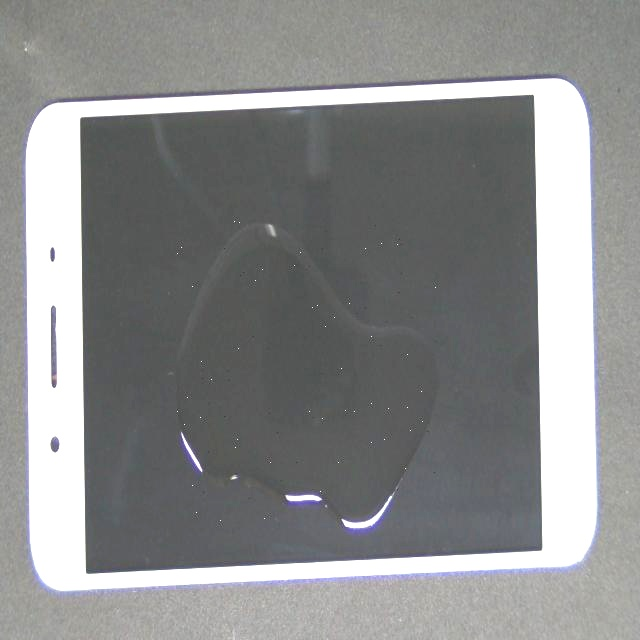oil: (169, 160, 479, 390)
